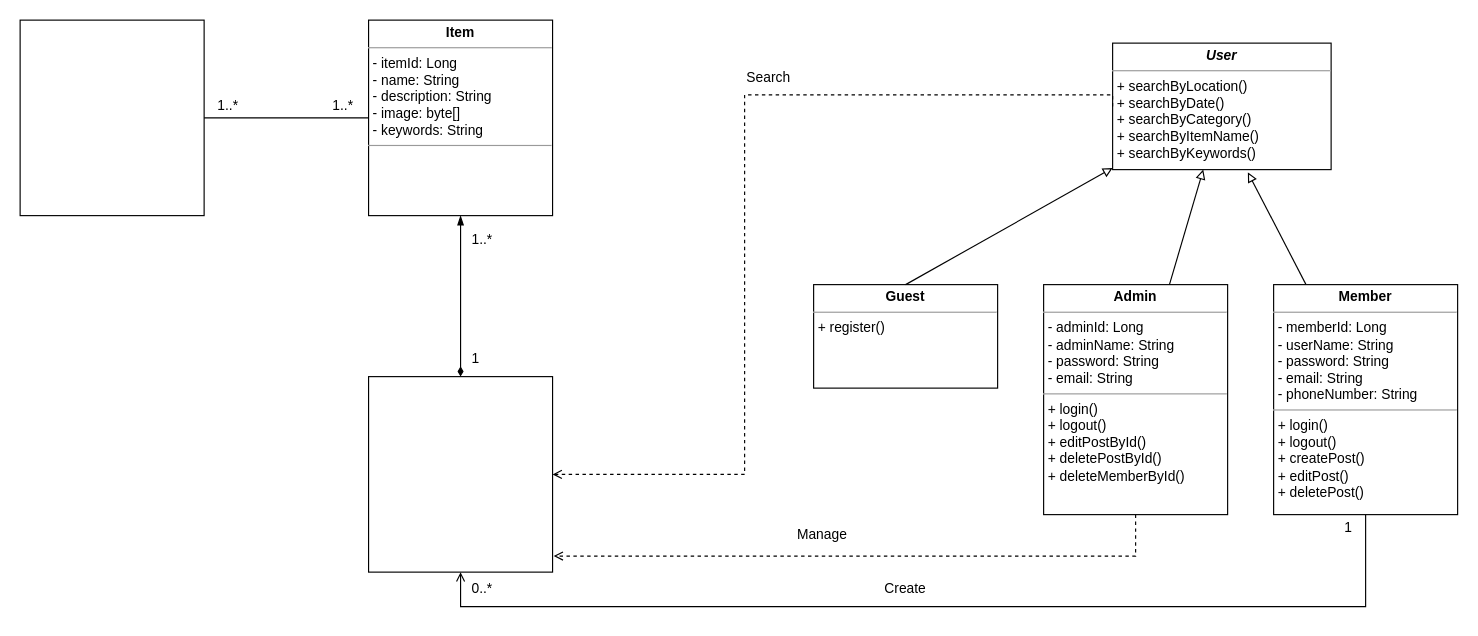
This 1478x636 diagram has some shape labels left out. The centre of each missing label's shape, as x and y in pixels:
"Category - id: Long - name: String" goes at [111,117].
"Post - postId: Long - isClosed: bool - creationDate: Date - location: String" goes at [460,473].
